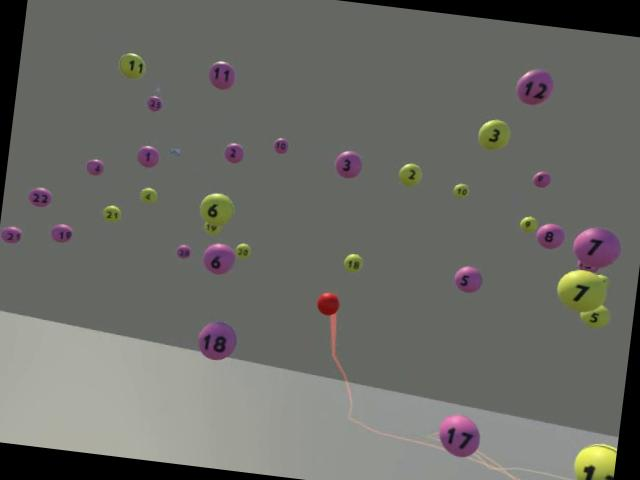ball_01_pink: (135, 146, 159, 168)
ball_02_pink: (222, 142, 244, 163)
ball_02_yellow: (396, 161, 422, 187)
ball_03_pink: (333, 148, 362, 180)
ball_03_yellow: (475, 116, 511, 152)
ball_04_pink: (84, 158, 104, 177)
ball_04_yellow: (138, 188, 158, 204)
ball_05_pink: (452, 265, 483, 294)
ball_05_yellow: (576, 302, 610, 330)
ball_06_pink: (200, 242, 236, 276)
ball_06_yellow: (196, 190, 236, 227)
ball_07_pink: (570, 224, 622, 271)
ball_07_yellow: (554, 266, 610, 314)
ball_08_pink: (534, 222, 564, 250)
ball_09_pink: (530, 170, 551, 188)
ball_09_yellow: (518, 215, 538, 233)
ball_10_pink: (271, 136, 289, 155)
ball_10_yellow: (452, 182, 468, 199)
ball_11_pink: (206, 59, 237, 92)
ball_11_yellow: (116, 51, 146, 80)
ball_12_pink: (513, 67, 554, 107)
ball_17_pink: (434, 413, 482, 459)
ball_18_pink: (195, 320, 239, 361)
ball_18_yellow: (342, 252, 362, 273)
ball_19_pink: (50, 223, 74, 245)
ball_19_yellow: (202, 220, 221, 236)
ball_20_pink: (175, 243, 191, 260)
ball_20_yellow: (233, 242, 250, 258)
ball_21_pink: (0, 226, 23, 246)
ball_21_yellow: (100, 205, 121, 224)
ball_22_pink: (27, 185, 51, 208)
ball_25_pink: (144, 94, 162, 111)
ball_unknown: (568, 439, 616, 480), (594, 272, 610, 292), (575, 260, 598, 273)
user_cursor: (314, 290, 340, 317)
